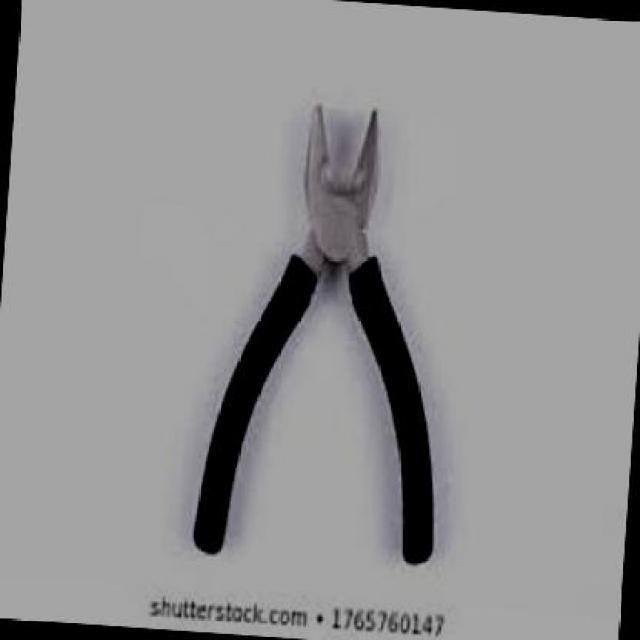pliers: (176, 73, 490, 587)
